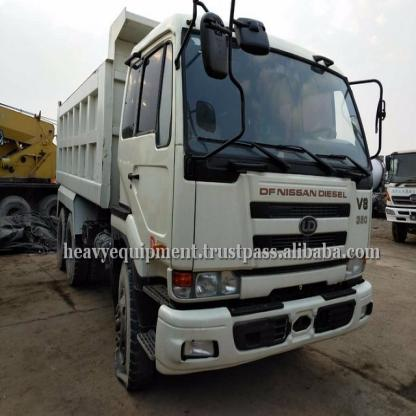dump_truck: (40, 6, 378, 388)
